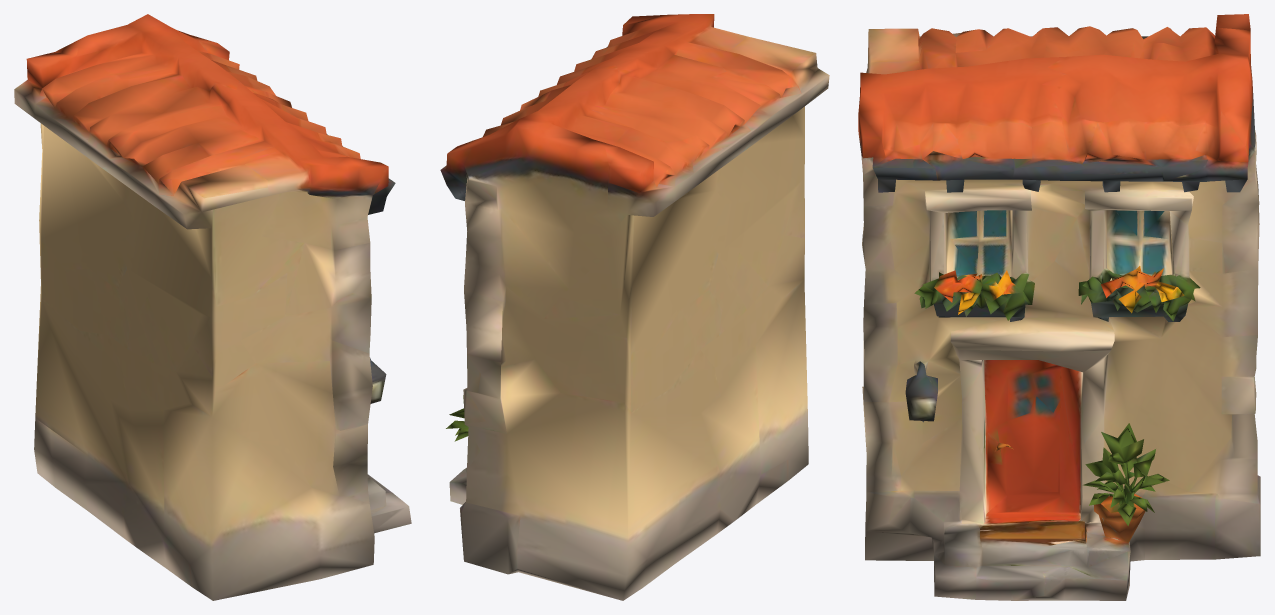
The model's file is house.glb.
3 renders of one model, left to right at view 1: azimuth 30°, elevation 25°; view 2: azimuth 150°, elevation 25°; view 3: azimuth 270°, elevation 25°, orthographic. The views are drawn at different scales.
Parts seen in each view (by area): view 1: tripo_node_e17b2c1d-708e-4654-a7b6-eba8a5f24267; view 2: tripo_node_e17b2c1d-708e-4654-a7b6-eba8a5f24267; view 3: tripo_node_e17b2c1d-708e-4654-a7b6-eba8a5f24267.
Boxes of the visible parts, bbox=[...] form: tripo_node_e17b2c1d-708e-4654-a7b6-eba8a5f24267: bbox=[14, 14, 411, 600]; tripo_node_e17b2c1d-708e-4654-a7b6-eba8a5f24267: bbox=[440, 14, 829, 600]; tripo_node_e17b2c1d-708e-4654-a7b6-eba8a5f24267: bbox=[858, 14, 1260, 600].
Bounding box in the file's own units: 0.598 × 0.975 × 0.7473.
1 material, 1 textured.
